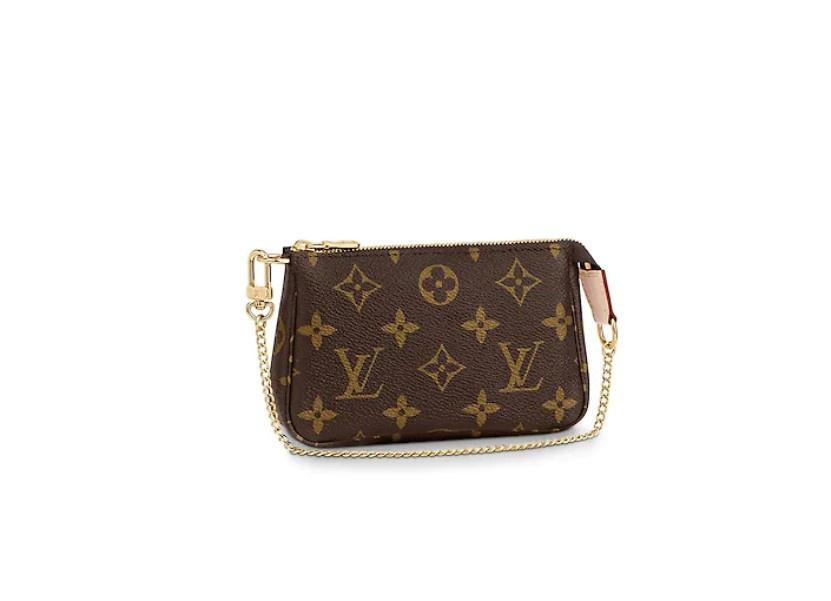LOUIS-VUITTON: (282, 249, 582, 434)
